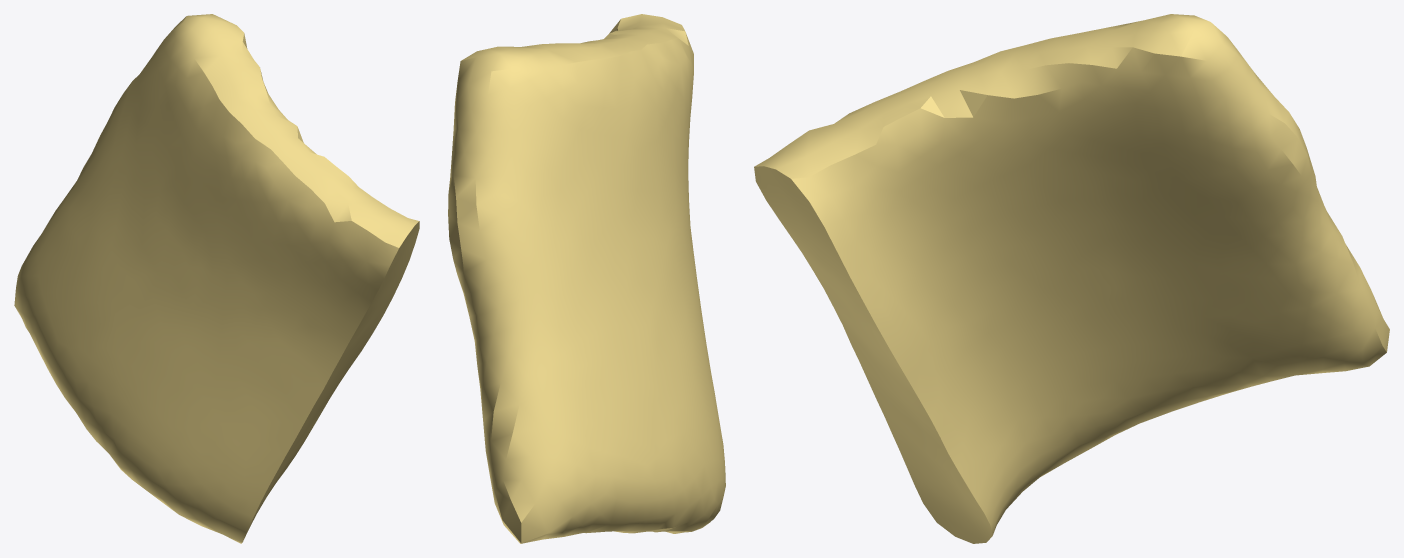
The model's file is fma73592_mm3597m.glb.
3 renders of one model, left to right at view 1: azimuth 30°, elevation 25°; view 2: azimuth 150°, elevation 25°; view 3: azimuth 270°, elevation 25°, orthographic. The views are drawn at different scales.
Parts seen in each view (by area): view 1: FMA73592_MM3597M; view 2: FMA73592_MM3597M; view 3: FMA73592_MM3597M.
Boxes of the visible parts, bbox=[...] form: FMA73592_MM3597M: bbox=[14, 14, 419, 543]; FMA73592_MM3597M: bbox=[448, 14, 725, 543]; FMA73592_MM3597M: bbox=[754, 14, 1389, 543].
Size of the model in its own units: 0.00202 by 0.00418 by 0.00436.
